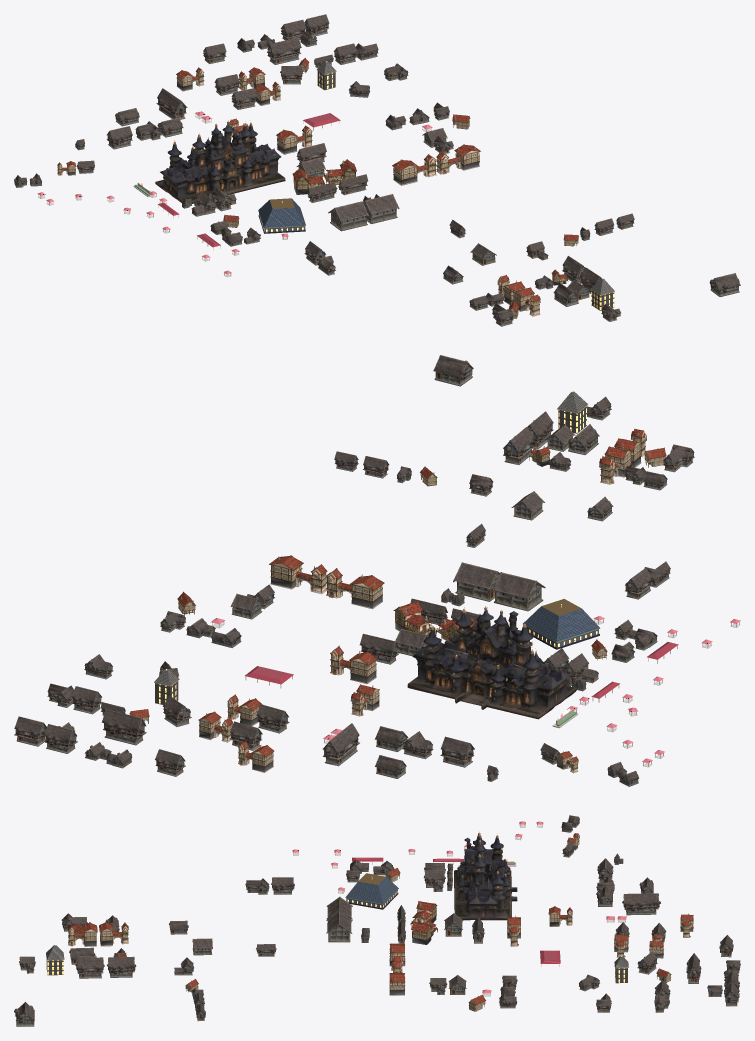
The model's file is campus-fantasy.glb.
3 renders of one model, top to bottom at view 1: azimuth 30°, elevation 25°; view 2: azimuth 150°, elevation 25°; view 3: azimuth 270°, elevation 25°, orthographic. The views are drawn at different scales.
Parts seen in each view (by area): view 1: b_way_454535317, b_relation_11863060, b_way_454535311, b_relation_11863061, b_relation_11863062, b_way_454535314, b_way_454535315, b_way_868488590, b_way_868488580, b_way_454535313, b_way_868488588, b_way_868488566 (+10 smaller); view 2: b_way_454535317, b_relation_11863060, b_relation_11863061, b_way_454535311, b_relation_11863062, b_way_454535314, b_way_454535315, b_way_868488590, b_way_868488580, b_way_868488588, b_way_868488566, b_way_454535313 (+15 smaller); view 3: b_way_454535317, b_relation_11863060, b_relation_11863061, b_way_454535315, b_way_454535314, b_way_454535313, b_way_868488566, b_relation_11863062, b_way_454535311, b_way_868488581, b_way_454535302, b_way_454535300 (+11 smaller).
Boxes of the visible parts, left/top/right/bottom form: b_way_454535317: left=155, top=120, right=285, bottom=203; b_relation_11863060: left=469, top=275, right=540, bottom=326; b_way_454535311: left=392, top=144, right=480, bottom=185; b_relation_11863061: left=535, top=256, right=601, bottom=306; b_relation_11863062: left=214, top=67, right=280, bottom=109; b_way_454535314: left=328, top=194, right=399, bottom=231; b_way_454535315: left=258, top=198, right=305, bottom=233; b_way_868488590: left=314, top=43, right=408, bottom=80; b_way_868488580: left=115, top=108, right=183, bottom=140; b_way_454535313: left=292, top=159, right=356, bottom=194; b_way_868488588: left=280, top=14, right=329, bottom=46; b_way_868488566: left=443, top=241, right=548, bottom=284; b_way_454535317: left=407, top=606, right=576, bottom=719; b_relation_11863060: left=599, top=428, right=694, bottom=490; b_relation_11863061: left=503, top=411, right=599, bottom=471; b_way_454535311: left=269, top=555, right=384, bottom=609; b_relation_11863062: left=198, top=694, right=289, bottom=750; b_way_454535314: left=453, top=562, right=545, bottom=611; b_way_454535315: left=523, top=599, right=600, bottom=649; b_way_868488590: left=47, top=654, right=125, bottom=715; b_way_868488580: left=374, top=726, right=433, bottom=778; b_way_868488588: left=14, top=716, right=77, bottom=753; b_way_868488566: left=469, top=474, right=613, bottom=521; b_way_454535313: left=393, top=600, right=476, bottom=641; b_way_454535317: left=454, top=832, right=517, bottom=920; b_relation_11863060: left=61, top=913, right=128, bottom=946; b_relation_11863061: left=69, top=947, right=136, bottom=978; b_way_454535315: left=345, top=873, right=398, bottom=909; b_way_454535314: left=326, top=896, right=352, bottom=942; b_way_454535313: left=410, top=901, right=437, bottom=944; b_way_868488566: left=169, top=920, right=212, bottom=975; b_relation_11863062: left=614, top=922, right=666, bottom=958; b_way_454535311: left=389, top=942, right=405, bottom=995; b_way_868488581: left=622, top=893, right=660, bottom=915; b_way_454535302: left=429, top=975, right=485, bottom=1011; b_way_454535300: left=245, top=877, right=294, bottom=894.
Bounding box in the file's own units: 349 × 47.29 × 521.
32 materials, 19 textured.
